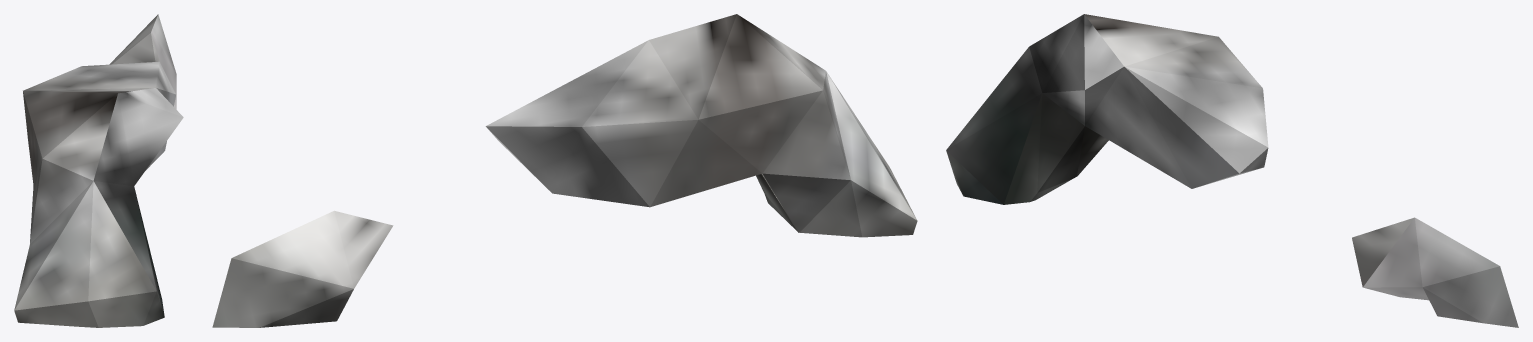
The picture shows the model from 3 angles, left to right: view 1: azimuth 30°, elevation 25°; view 2: azimuth 150°, elevation 25°; view 3: azimuth 270°, elevation 25°; orthographic projection. The views are drawn at different scales.
Bounding box in the file's own units: 0.0877 × 0.04 × 0.1103.
Materials: 1 (1 with a texture image).
